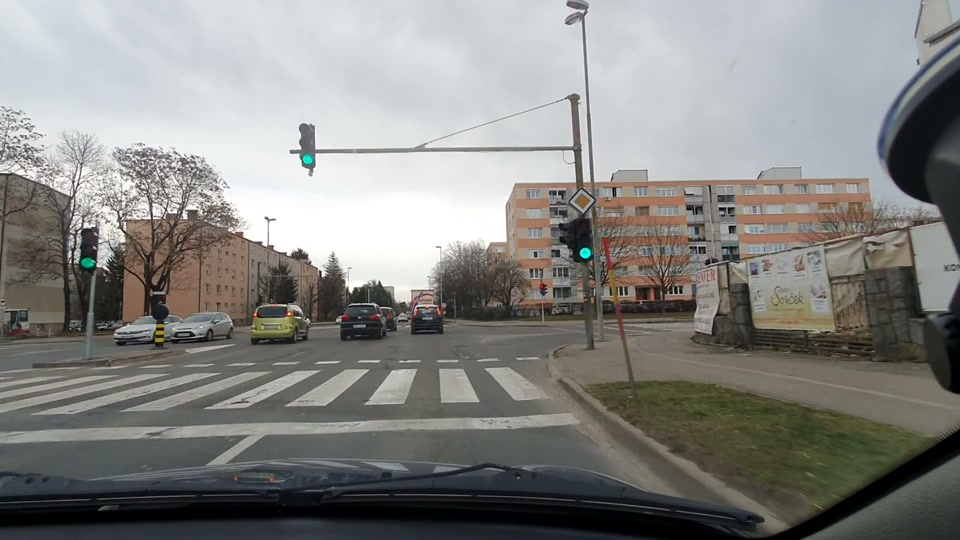vehicle_ign: (246, 301, 312, 344), (335, 302, 386, 342), (411, 301, 447, 339)
vehicle_s: (169, 304, 233, 344), (109, 309, 173, 348)
